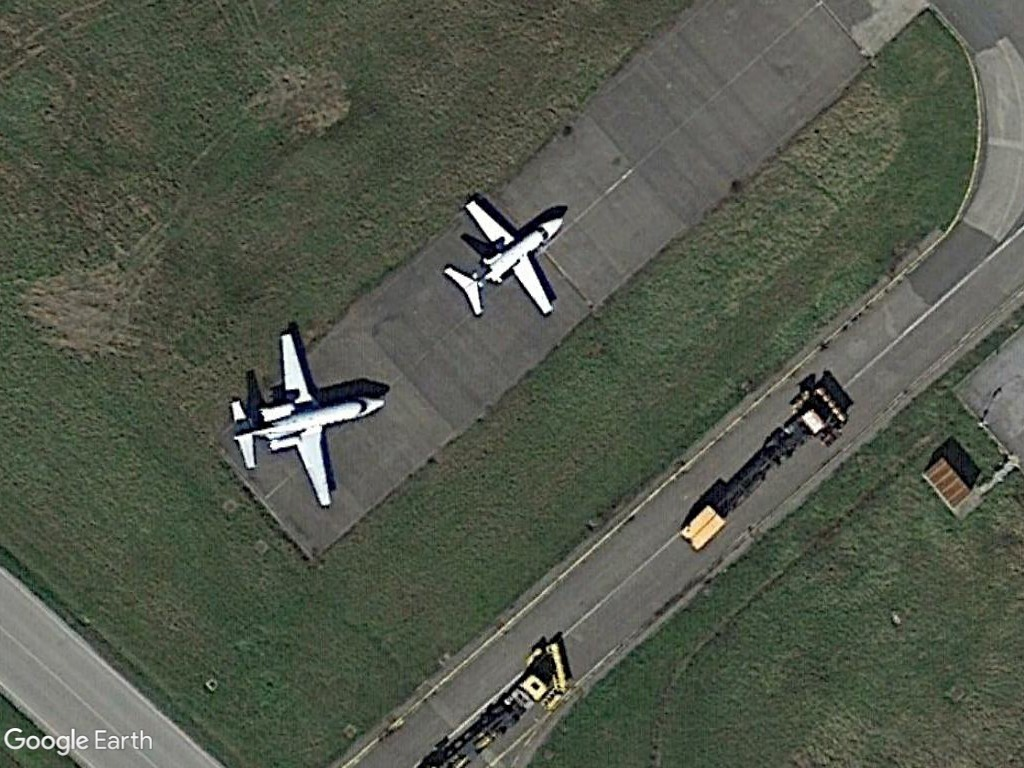chartered: (217, 333, 390, 512), (439, 198, 569, 323)
